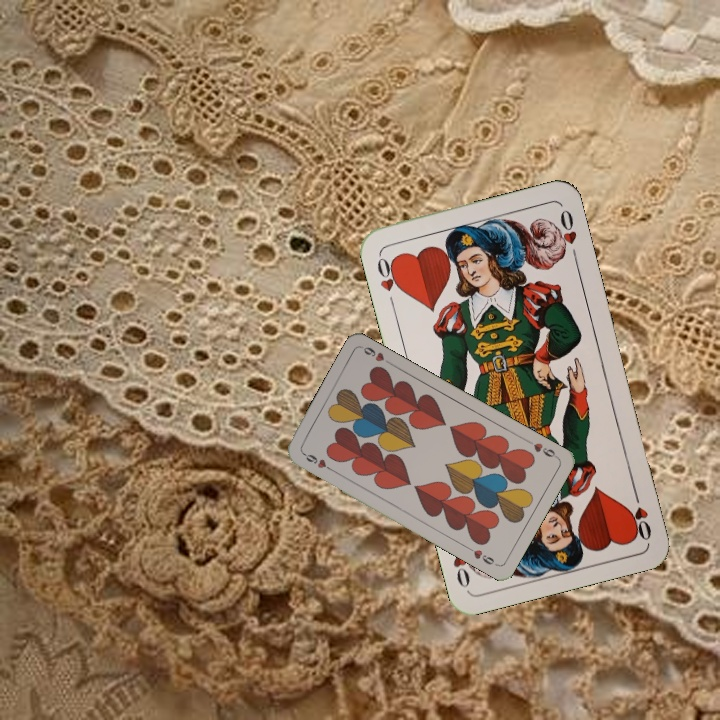H9: (523, 436, 560, 461), (299, 449, 336, 474)
HO: (373, 251, 404, 310), (625, 485, 654, 544)
